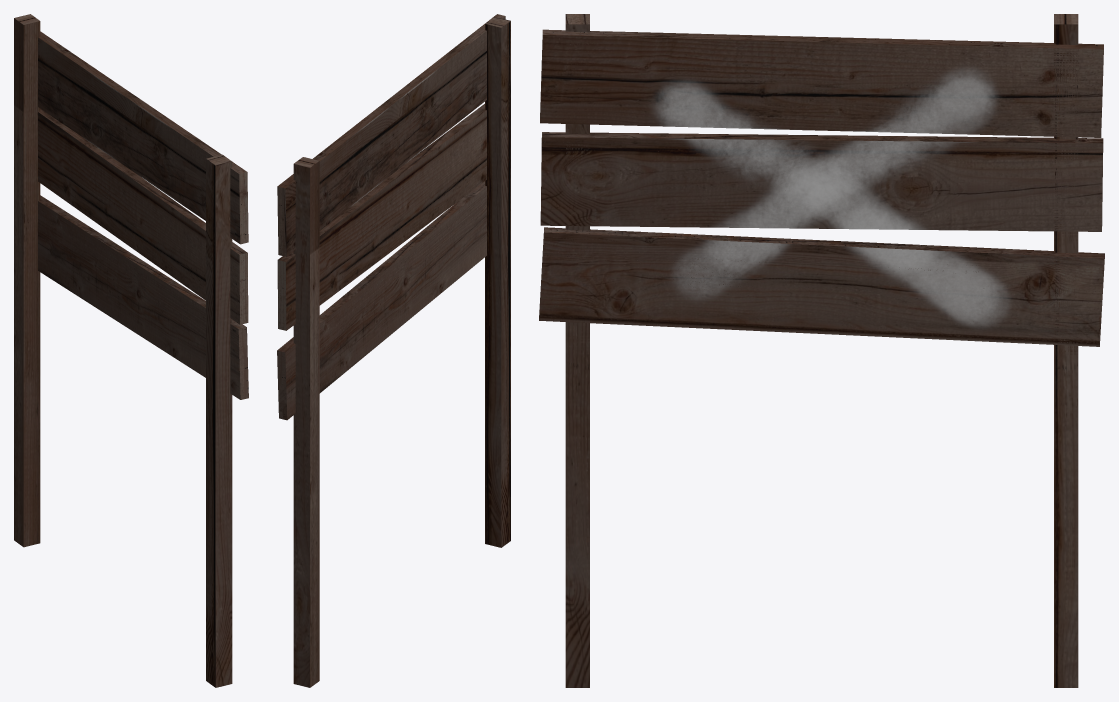
The model's file is Obs_2.obj.
3 views of the same model, side by side, from view 1: azimuth 30°, elevation 25°; view 2: azimuth 150°, elevation 25°; view 3: azimuth 270°, elevation 25° (orthographic). The views are drawn at different scales.
Parts seen in each view (by area): view 1: Cube.001_Cube.006; view 2: Cube.001_Cube.006; view 3: Cube.001_Cube.006.
Boxes of the visible parts, x1,y1,x2,y2 form: Cube.001_Cube.006: (14, 14, 248, 687); Cube.001_Cube.006: (277, 14, 510, 687); Cube.001_Cube.006: (539, 14, 1104, 687).
Bounding box in the file's own units: 0.2739 × 6 × 4.64.
